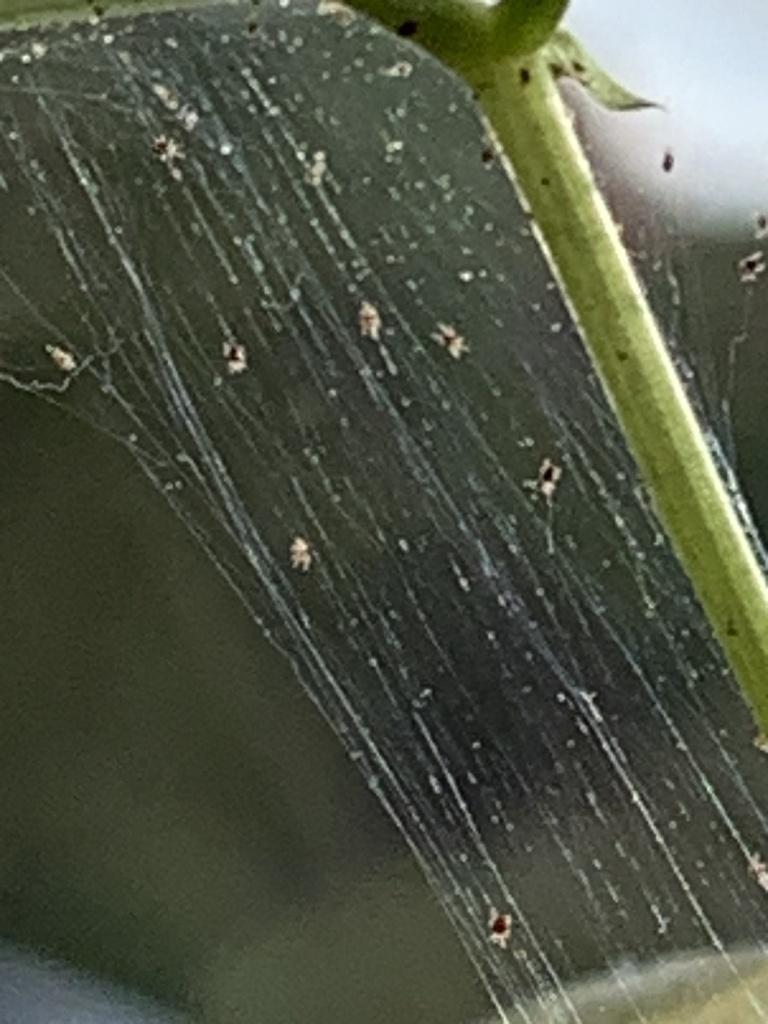tiny_pests: (514, 440, 571, 512), (474, 888, 526, 960), (344, 293, 398, 357), (283, 509, 322, 581)
